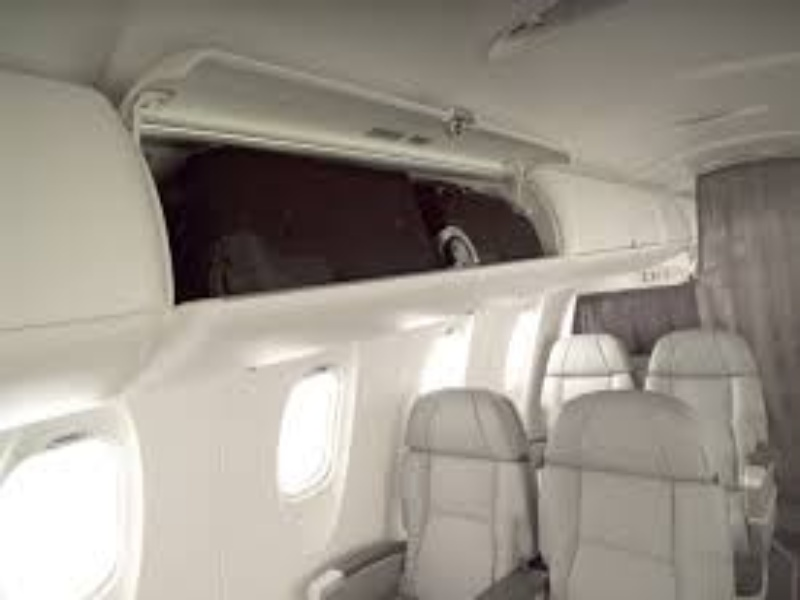close_bin: (2, 30, 177, 443), (531, 159, 696, 276)
open_bin: (123, 25, 572, 348)
